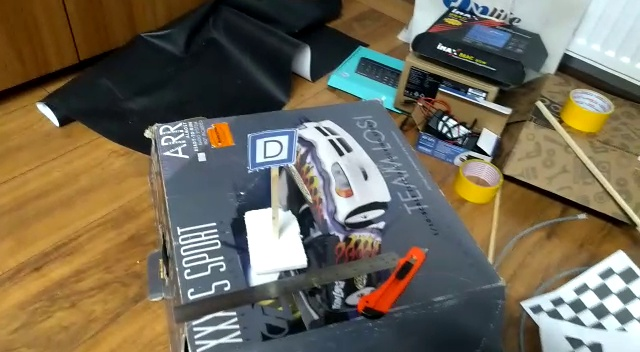durak: (242, 130, 305, 170)
